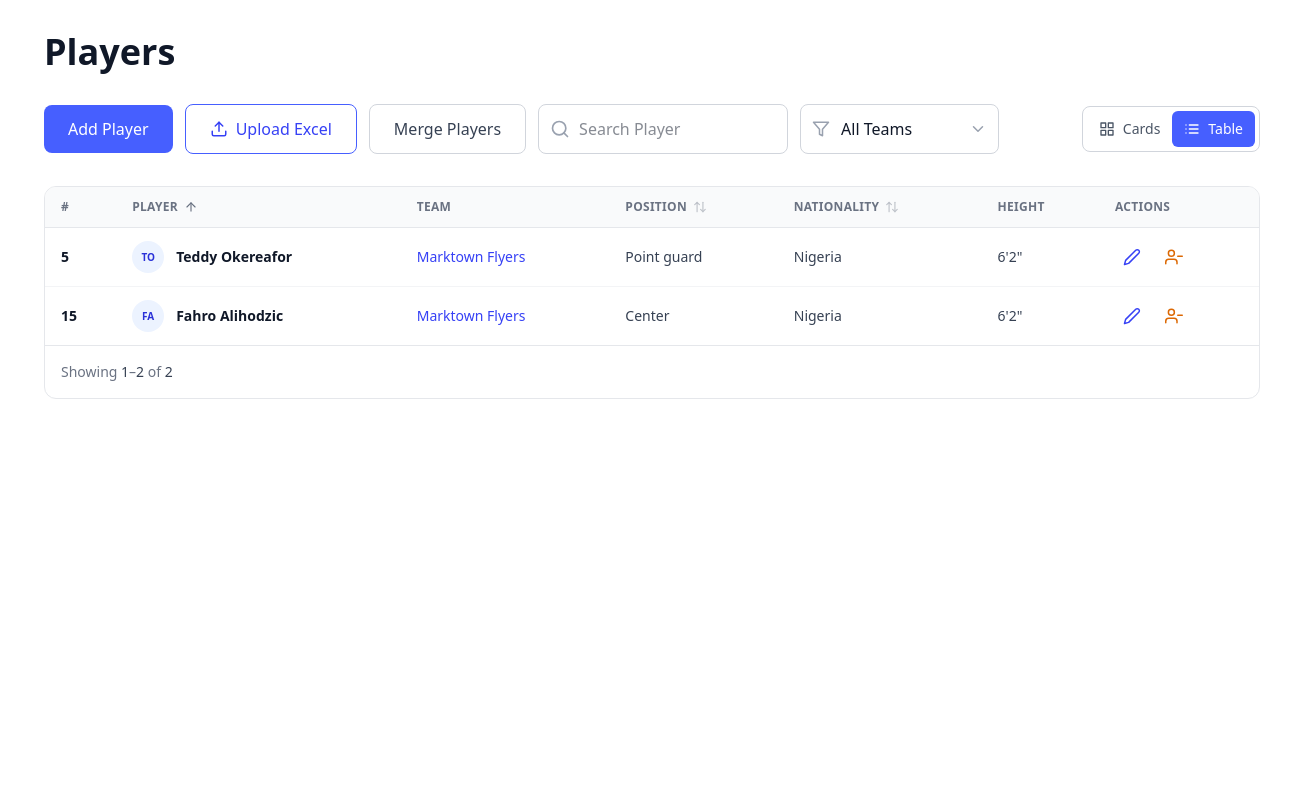
Test: Players: search, filter and sort go through the URL › flips direction when the active sort is pressed again
Click the button "Player": coordinates (165, 207) x1=132 y1=199 x2=198 y2=215
(page scrolled)
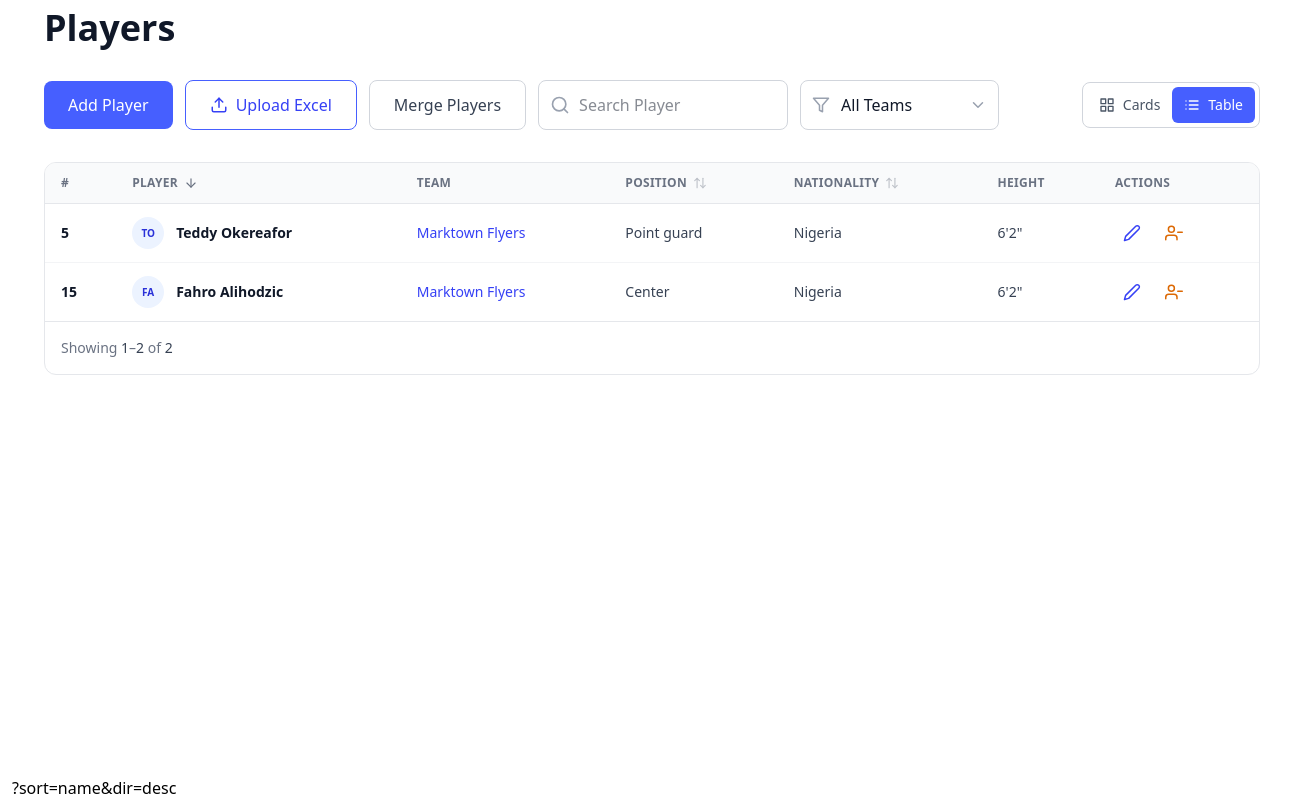
Expected: the text with test id "where" shows "dir=desc", x1=12 y1=777 x2=176 y2=799
